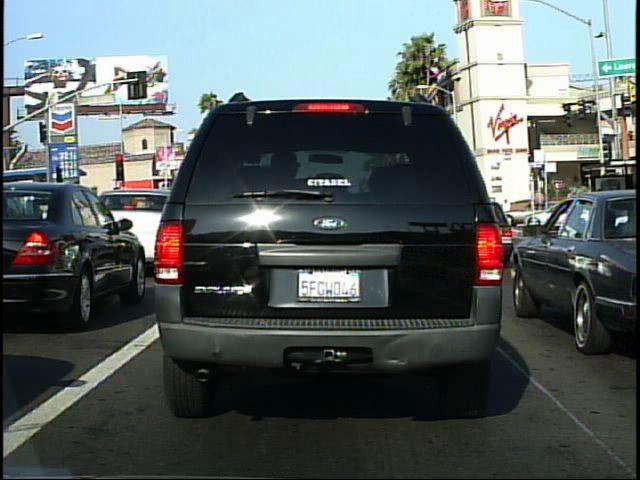person: (590, 183, 612, 245), (500, 197, 514, 225)
